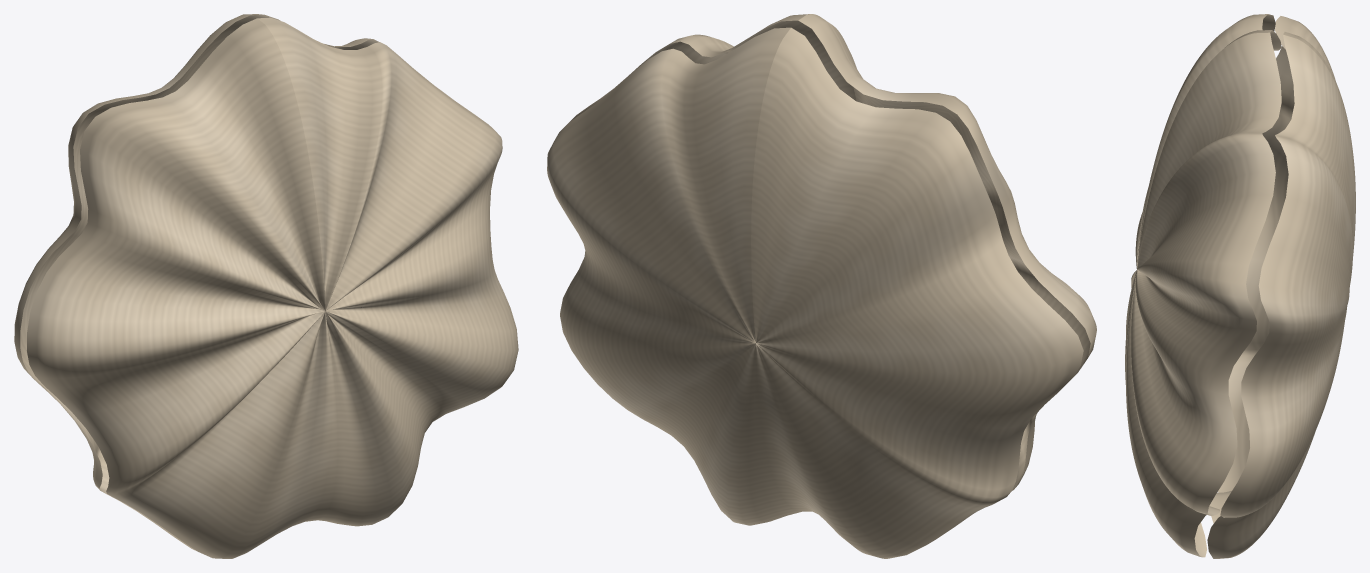
The model's file is oyster.glb.
3 views of the same model, side by side, from view 1: azimuth 30°, elevation 25°; view 2: azimuth 150°, elevation 25°; view 3: azimuth 270°, elevation 25° (orthographic). The views are drawn at different scales.
Visible parts, largest first — view 1: oyster; view 2: oyster; view 3: oyster.
Boxes of the visible parts, box(x1,y1,x2,y2) form: oyster: box(14, 14, 518, 558); oyster: box(547, 14, 1096, 558); oyster: box(1125, 14, 1355, 558).
Size of the model in its own units: 2.39 by 2.38 by 1.02.
